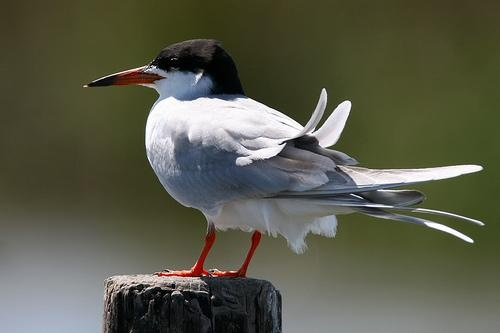bird: (82, 35, 486, 276)
